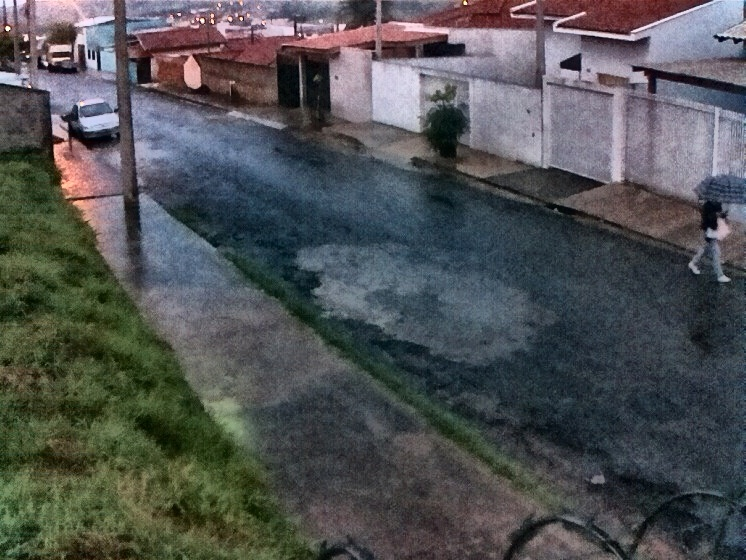person: (686, 196, 738, 290)
